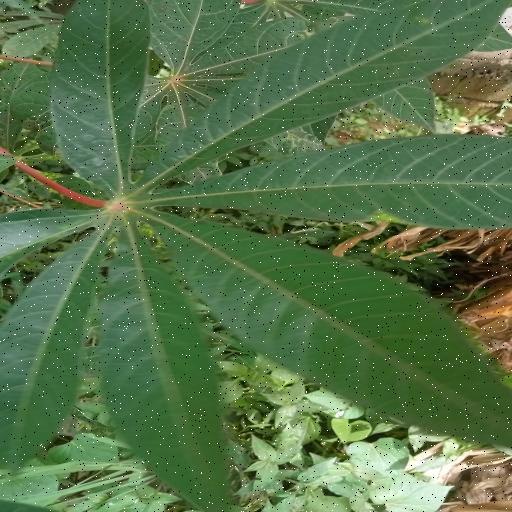Cassava_Healthy: (14, 0, 512, 504)
